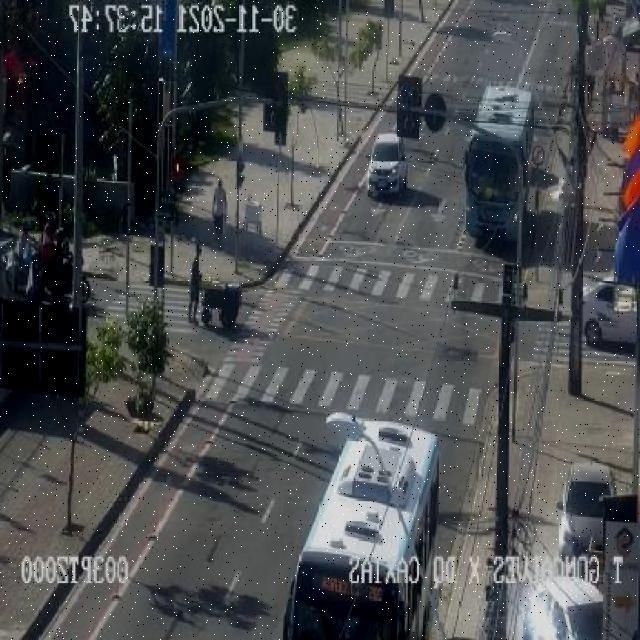Bus: (280, 413, 442, 638), (464, 84, 539, 244)
Car: (558, 462, 616, 558), (579, 280, 637, 352), (368, 132, 409, 197)
